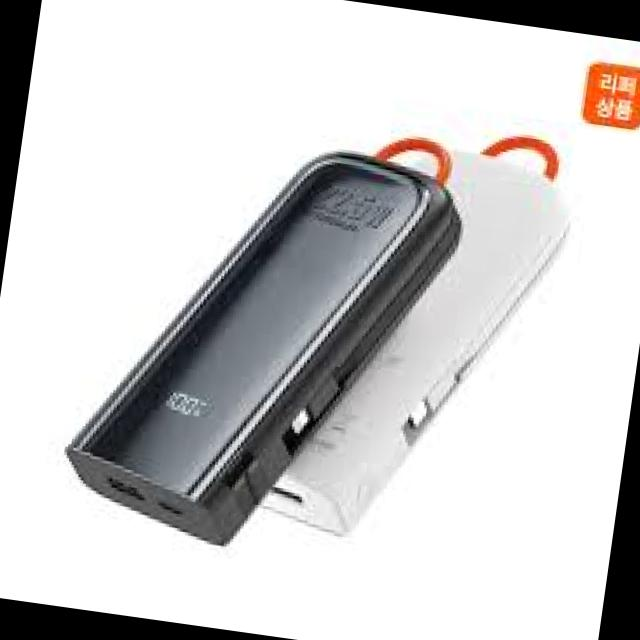portable-charger: (41, 118, 472, 580), (261, 131, 576, 565)
